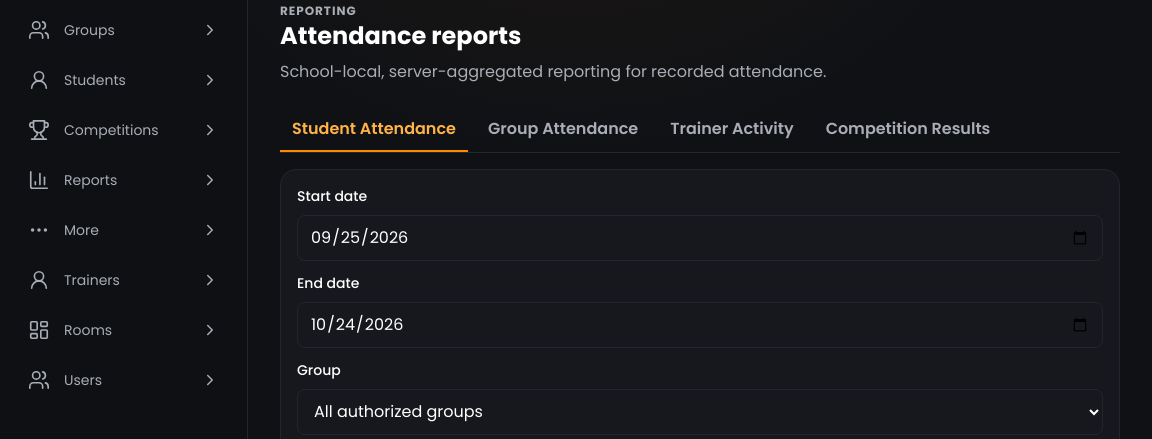
Test: ReportsPage › keeps competition results available while blocking a thirteen-month participation trend
Click the tab "Competition Results" at (908, 130), box [814, 108, 1002, 152]
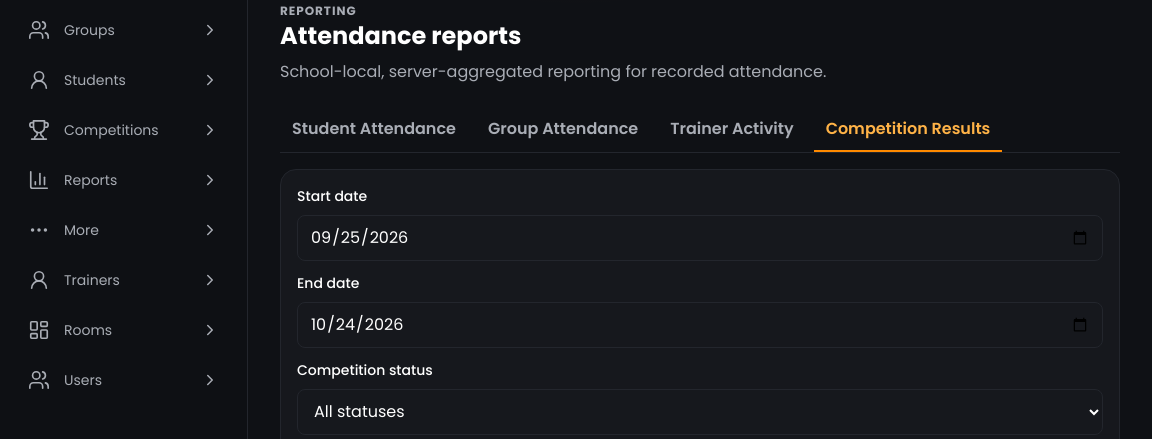
Type "2026-01-01" into the date field labelled "Start date" at (700, 238), box [297, 215, 1103, 261]
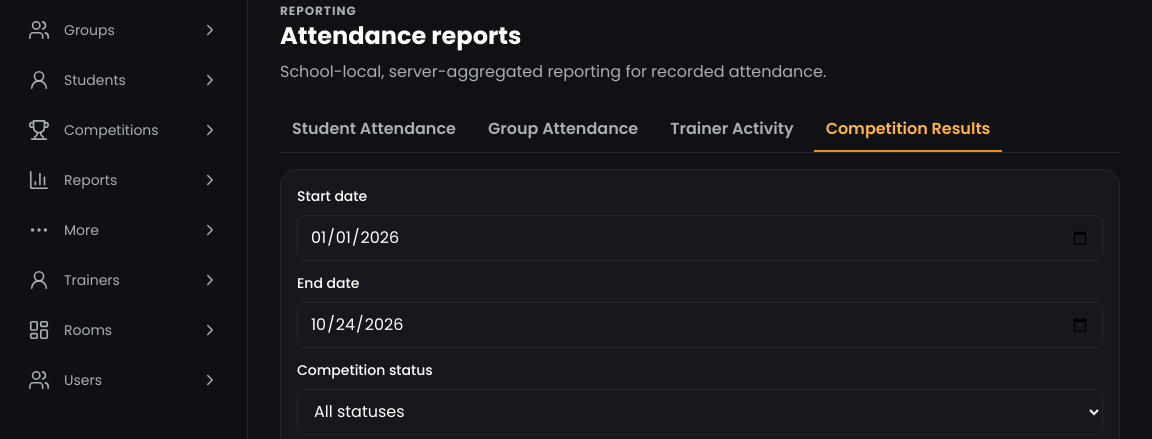
Type "2027-01-01" into the date field labelled "End date" at (700, 325), box [297, 302, 1103, 348]
(page scrolled)
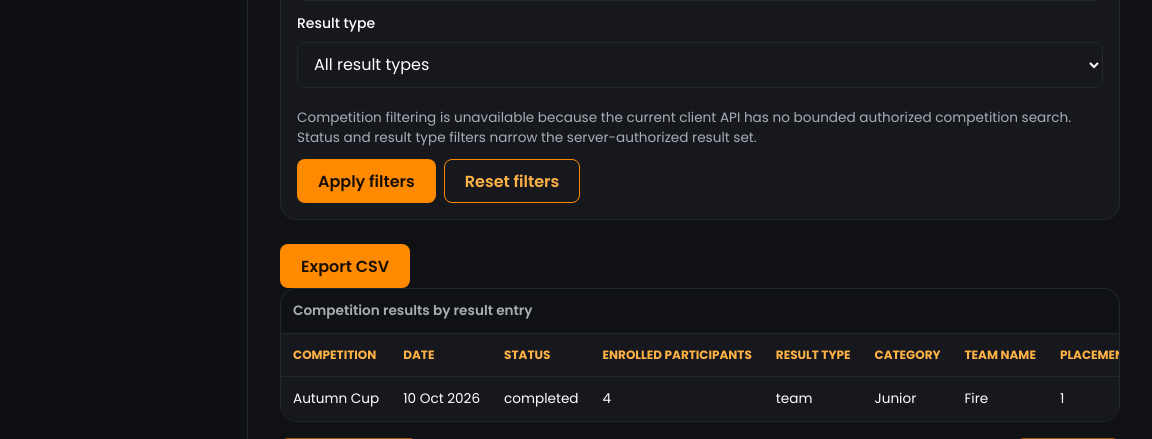
Click the button "Apply filters" at (366, 181), box [297, 159, 436, 203]
(page scrolled)
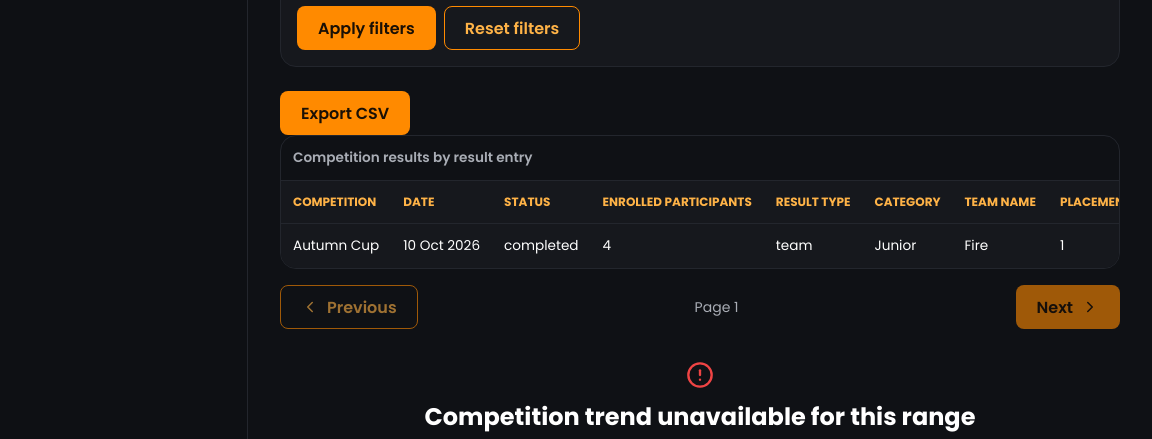
Result: the heading "Competition trend unavailable for this range" is shown at [424, 401, 975, 433]
